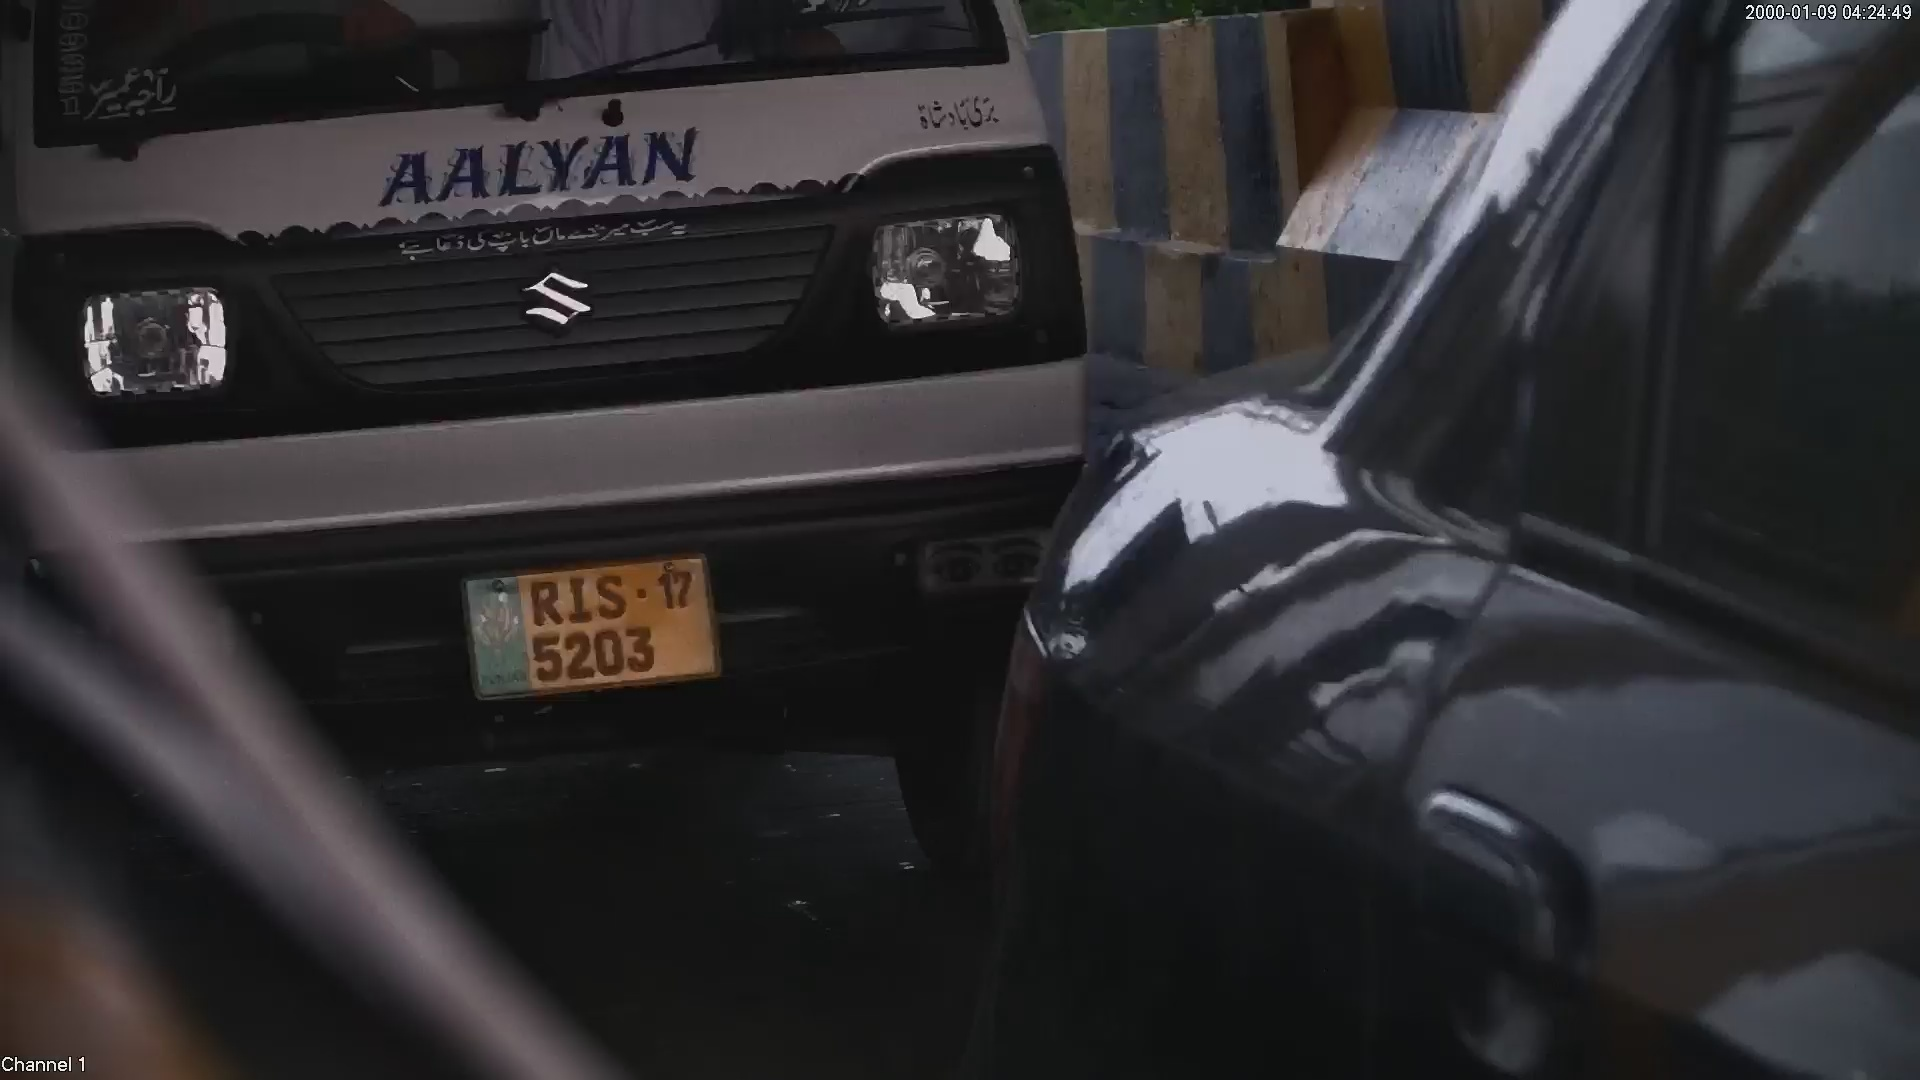Number_Plate: (447, 549, 739, 696)
Undefined: (377, 127, 701, 205), (56, 275, 232, 405), (867, 212, 1021, 327), (387, 214, 704, 269), (908, 523, 1050, 599), (63, 53, 180, 125), (908, 75, 1006, 140), (521, 270, 600, 336)
